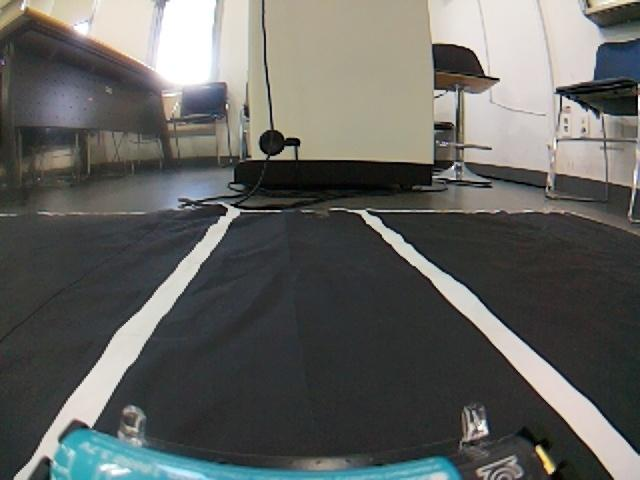straight: (0, 210, 640, 480)
